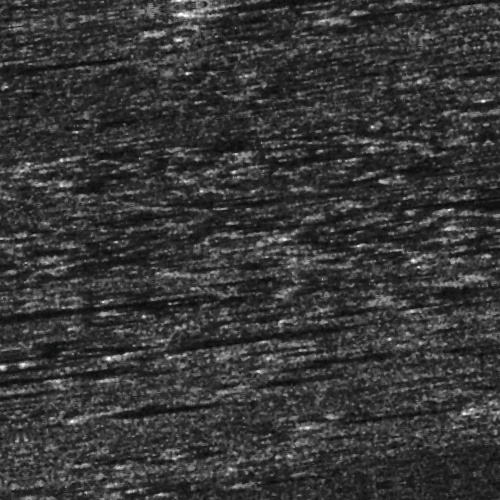object: (253, 425, 346, 432), (40, 390, 93, 401), (224, 1, 235, 10), (0, 37, 6, 44)
shadow: (67, 390, 219, 401), (230, 1, 406, 10), (0, 279, 113, 290), (0, 37, 148, 44), (300, 425, 409, 432)
